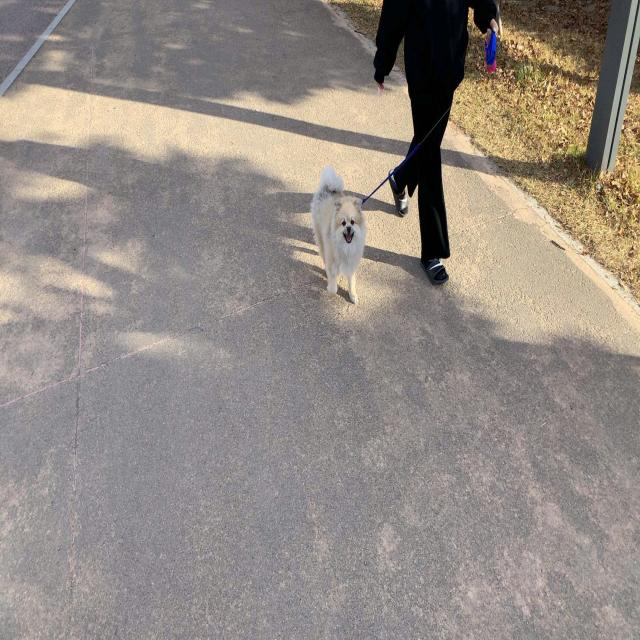Leashed_Dog: (310, 116, 442, 305)
